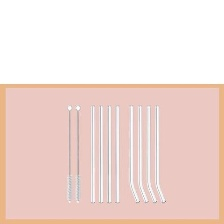drinking_straw: (151, 103, 169, 205), (113, 104, 122, 204)
